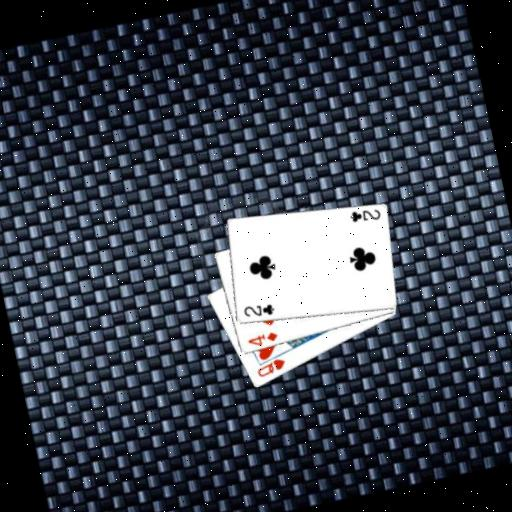2C: (239, 298, 276, 323), (346, 203, 383, 227)
4D: (244, 328, 280, 350)
QH: (252, 354, 289, 380)
